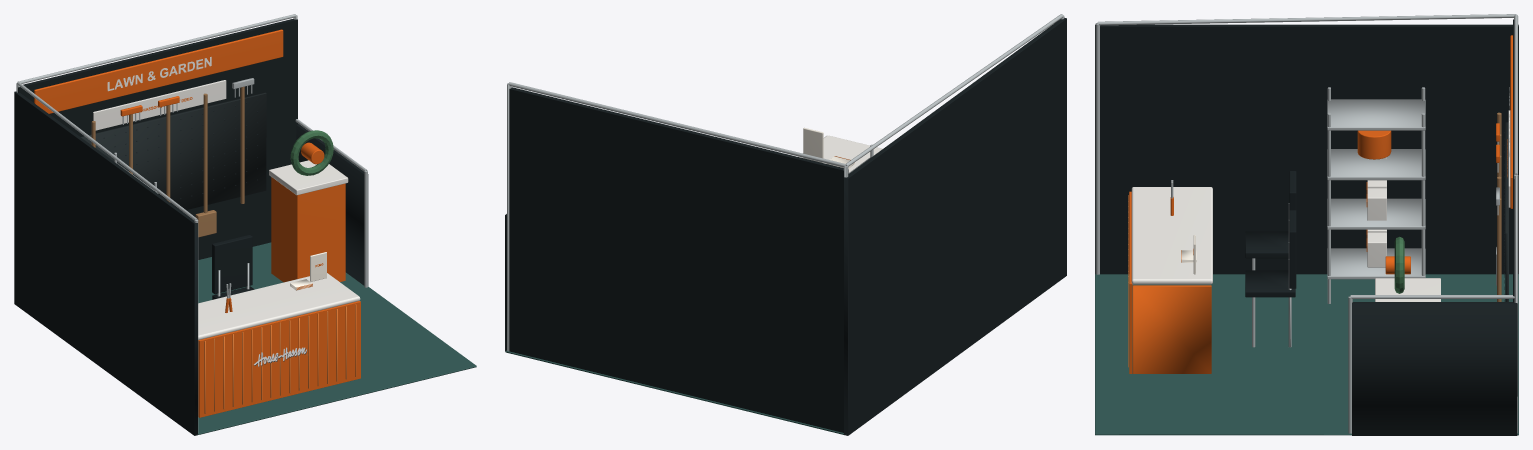
File: HH-B03-market.glb
3 views of the same model, side by side, from view 1: azimuth 30°, elevation 25°; view 2: azimuth 150°, elevation 25°; view 3: azimuth 270°, elevation 25° (orthographic). The views are drawn at different scales.
Visible parts, largest first — view 1: Chair charcoal padded seat, Demo identity, Dark perforated pegboard, Orange front skirt, Muted teal carpet, Category title, Hoe head, Broom bristles, Fabric pleat, Green hose reel coil, Brochure 1; view 2: Chair charcoal padded seat, Hoe head, Category title, Muted teal carpet, Brochure 1; view 3: Chair charcoal padded seat, Muted teal carpet, Hoe head, Category title, Orange front skirt, Demo identity, Broom bristles, Dark perforated pegboard, Green hose reel coil.
Part boxes in pixels (x1,y1,x2,y2): Chair charcoal padded seat: [14, 18, 368, 435]; Demo identity: [34, 29, 345, 312]; Dark perforated pegboard: [81, 92, 266, 210]; Orange front skirt: [198, 301, 360, 417]; Muted teal carpet: [196, 242, 476, 435]; Category title: [93, 57, 360, 339]; Hoe head: [16, 14, 367, 432]; Broom bristles: [91, 86, 244, 237]; Fabric pleat: [204, 304, 356, 413]; Green hose reel coil: [290, 130, 333, 175]; Brochure 1: [290, 252, 326, 290]; Chair charcoal padded seat: [505, 17, 1066, 435]; Hoe head: [507, 14, 1064, 351]; Category title: [798, 135, 882, 172]; Muted teal carpet: [505, 350, 843, 434]; Brochure 1: [803, 127, 854, 168]; Chair charcoal padded seat: [1095, 19, 1518, 435]; Muted teal carpet: [1095, 274, 1518, 435]; Hoe head: [1095, 14, 1518, 433]; Category title: [1131, 87, 1510, 301]; Orange front skirt: [1129, 191, 1211, 373]; Demo identity: [1170, 35, 1512, 274]; Broom bristles: [1497, 112, 1501, 301]; Dark perforated pegboard: [1505, 122, 1508, 301]; Green hose reel coil: [1394, 236, 1404, 293].
Bounding box in the file's own units: 2.74 × 2.05 × 3.02.
13 materials, 1 textured.
